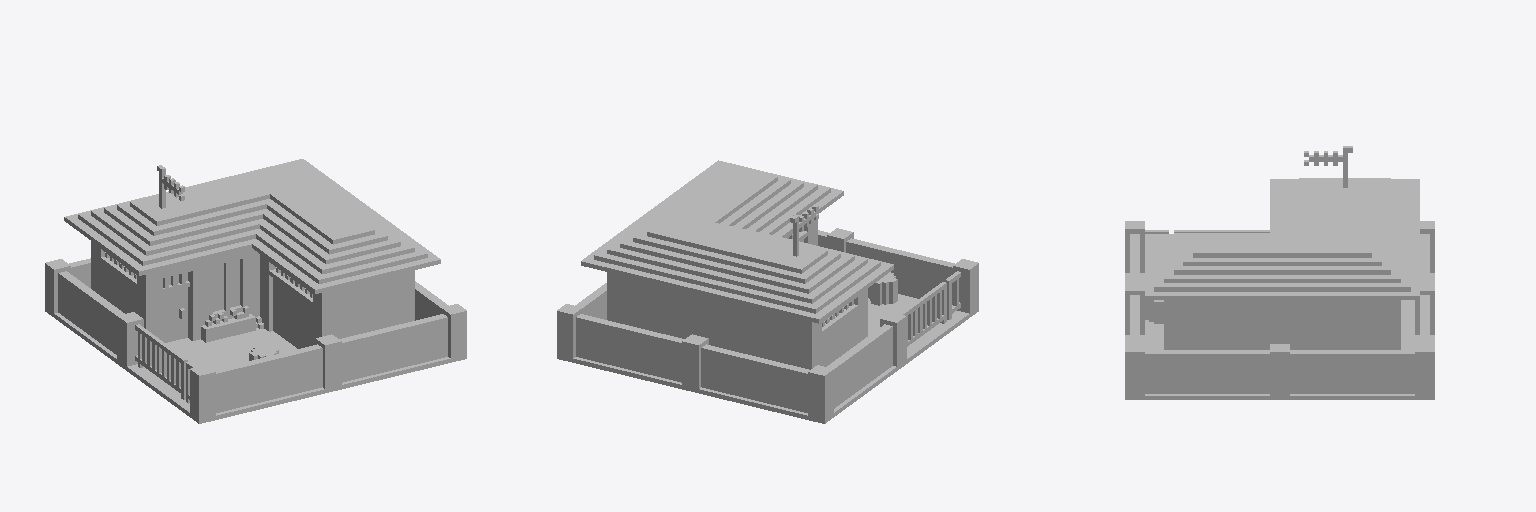
File: house-1.obj
The picture shows the model from 3 angles: view 1: azimuth 30°, elevation 25°; view 2: azimuth 150°, elevation 25°; view 3: azimuth 270°, elevation 25°; orthographic projection.
Visible parts, largest first — view 1: object 1; view 2: object 1; view 3: object 1.
Boxes of the visible parts, x1=… form: object 1: x1=45, y1=159, x2=466, y2=423; object 1: x1=557, y1=160, x2=978, y2=423; object 1: x1=1125, y1=146, x2=1434, y2=399.
Size of the model in its own units: 6.4 by 3.6 by 6.4.